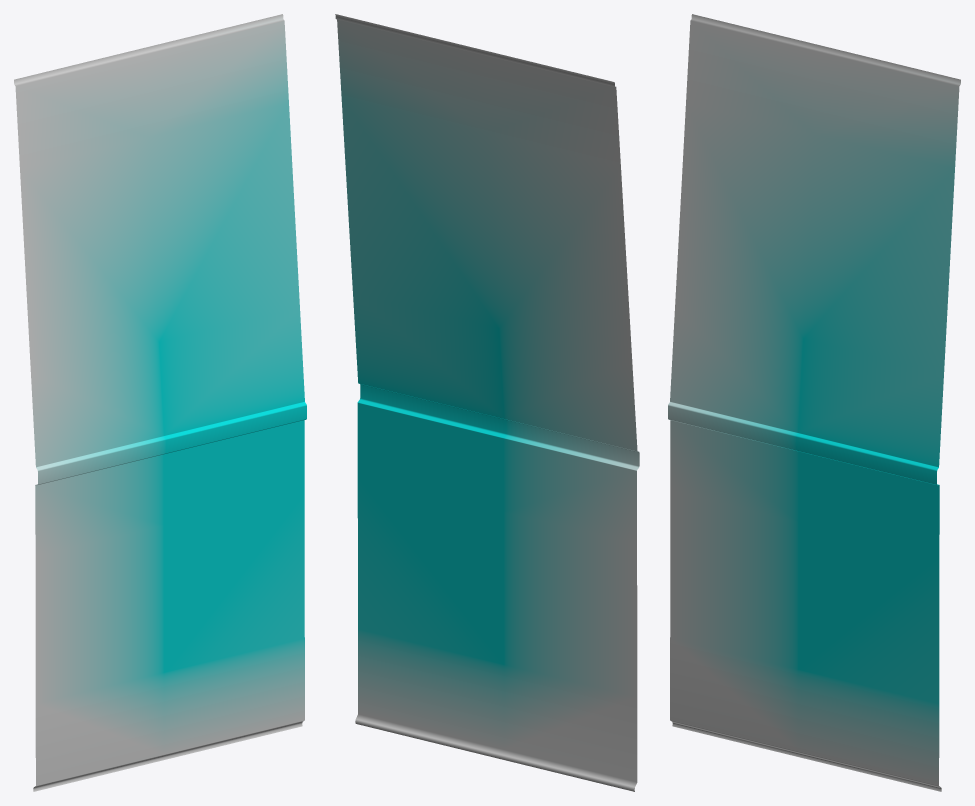
Rendered from SM_ext_wall_100_01.fbx.
3 renders of one model, left to right at view 1: azimuth 30°, elevation 25°; view 2: azimuth 150°, elevation 25°; view 3: azimuth 330°, elevation 25°, orthographic. The views are drawn at different scales.
Parts seen in each view (by area): view 1: SM_ext_wall_100_01_LOD0; view 2: SM_ext_wall_100_01_LOD0; view 3: SM_ext_wall_100_01_LOD0.
Part boxes in pixels (x1,y1,x2,y2): SM_ext_wall_100_01_LOD0: (14,14,306,791); SM_ext_wall_100_01_LOD0: (335,14,639,791); SM_ext_wall_100_01_LOD0: (668,14,960,791).
Bounding box in the file's own units: 100 × 248 × 15.33.
